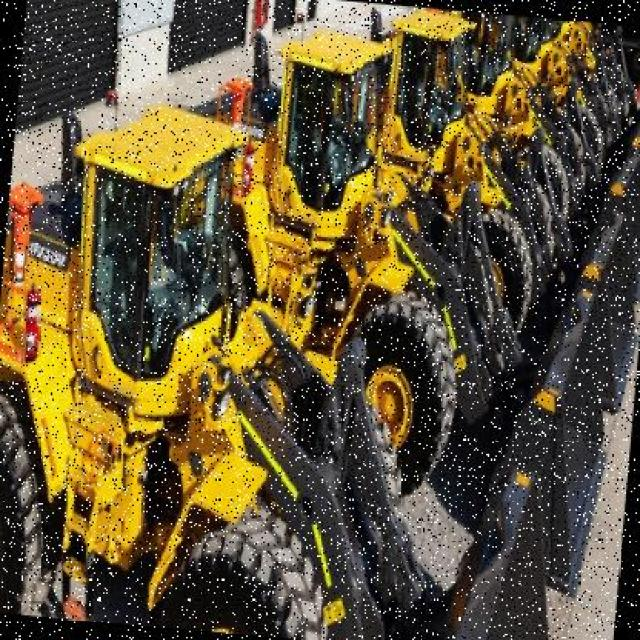buldozerpayloadergrader: (0, 95, 446, 640)
